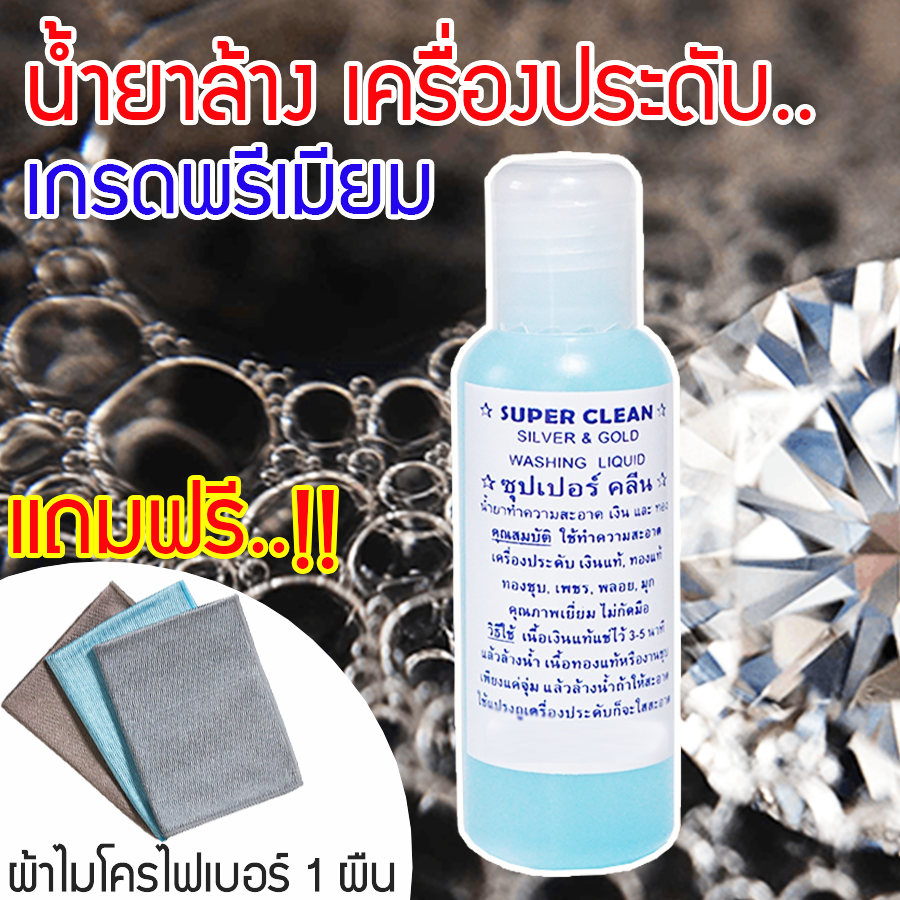Cleaning_solution: (442, 149, 683, 885)
